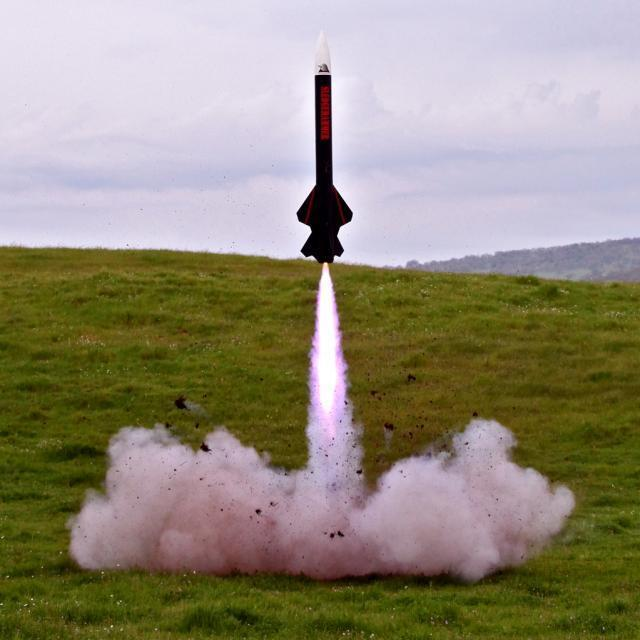missile: (296, 27, 355, 265)
